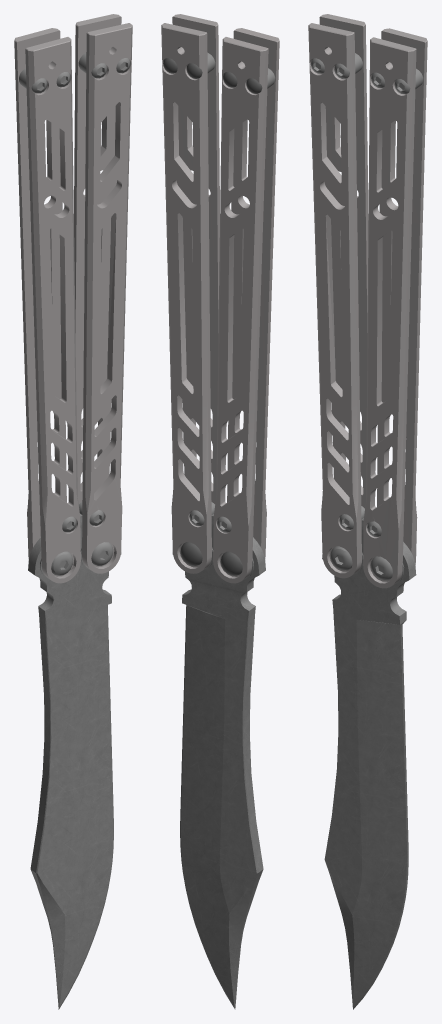
Rendered from balisongBase.glb.
3 renders of one model, left to right at view 1: azimuth 30°, elevation 25°; view 2: azimuth 150°, elevation 25°; view 3: azimuth 330°, elevation 25°, orthographic.
Visible parts, largest first — view 1: Blade_Parent, Handle2, Handle1, Handle1_Side_Bot, Handle2_Side_Bot, Handle2_Side_Center, Handle1_Side_Center, Handle2_Side_Top, Handle1_Side_Top, Handle1_Screws, Handle2_Screws; view 2: Blade_Parent, Handle2, Handle1, Handle2_Side_Bot, Handle1_Side_Bot, Handle2_Side_Center, Handle1_Side_Center, Handle2_Side_Top, Handle1_Side_Top, Handle2_Barrels, Handle1_Barrels, Handle1_Screws (+1 smaller); view 3: Blade_Parent, Handle1, Handle2, Handle2_Side_Bot, Handle1_Side_Bot, Handle1_Side_Center, Handle2_Side_Center, Handle1_Side_Top, Handle2_Side_Top, Handle2_Screws, Handle1_Screws.
Part boxes in pixels (bbox=[...]): Blade_Parent: bbox=[28, 514, 121, 1009]; Handle2: bbox=[17, 30, 80, 583]; Handle1: bbox=[75, 16, 131, 573]; Handle1_Side_Bot: bbox=[74, 14, 132, 207]; Handle2_Side_Bot: bbox=[14, 28, 73, 224]; Handle2_Side_Center: bbox=[19, 211, 76, 407]; Handle1_Side_Center: bbox=[74, 195, 128, 396]; Handle2_Side_Top: bbox=[25, 397, 79, 580]; Handle1_Side_Top: bbox=[82, 388, 123, 569]; Handle1_Screws: bbox=[78, 48, 130, 565]; Handle2_Screws: bbox=[19, 63, 76, 575]; Blade_Parent: bbox=[172, 514, 265, 1009]; Handle2: bbox=[213, 30, 276, 583]; Handle1: bbox=[162, 16, 218, 573]; Handle2_Side_Bot: bbox=[220, 28, 279, 224]; Handle1_Side_Bot: bbox=[161, 14, 219, 207]; Handle2_Side_Center: bbox=[217, 212, 274, 407]; Handle1_Side_Center: bbox=[165, 195, 219, 396]; Handle2_Side_Top: bbox=[214, 397, 268, 580]; Handle1_Side_Top: bbox=[170, 388, 211, 569]; Handle2_Barrels: bbox=[220, 72, 262, 575]; Handle1_Barrels: bbox=[163, 58, 202, 565]; Handle1_Screws: bbox=[183, 48, 215, 525]; Blade_Parent: bbox=[322, 518, 416, 1009]; Handle1: bbox=[363, 31, 424, 588]; Handle2: bbox=[309, 16, 367, 578]; Handle2_Side_Bot: bbox=[308, 14, 368, 209]; Handle1_Side_Bot: bbox=[368, 28, 427, 220]; Handle1_Side_Center: bbox=[367, 209, 423, 412]; Handle2_Side_Center: bbox=[314, 199, 368, 398]; Handle1_Side_Top: bbox=[364, 402, 417, 584]; Handle2_Side_Top: bbox=[319, 390, 361, 574]; Handle2_Screws: bbox=[310, 48, 364, 570]; Handle1_Screws: bbox=[367, 63, 423, 580].
Bounding box in the file's own units: 0.5186 × 4.61 × 0.168.
11 materials, 1 textured.
